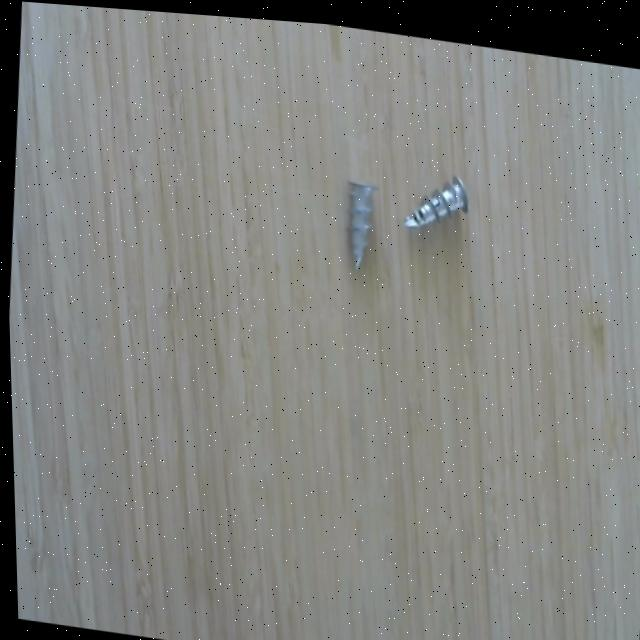Short screw: (396, 160, 476, 231), (339, 168, 381, 272)
